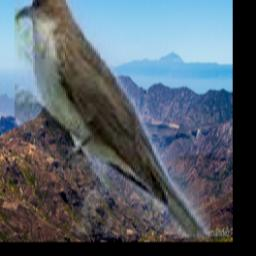Cuckoo: (15, 0, 210, 239)
